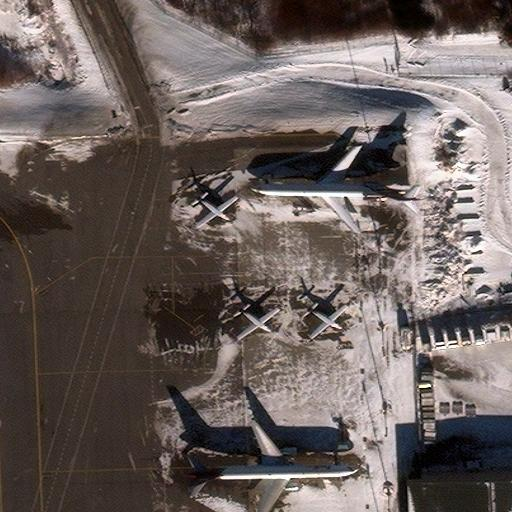Large Civil Transport: (183, 420, 359, 511)
Medium Civil Transport: (248, 146, 425, 237), (237, 307, 279, 340), (307, 306, 348, 339), (198, 196, 238, 229)
